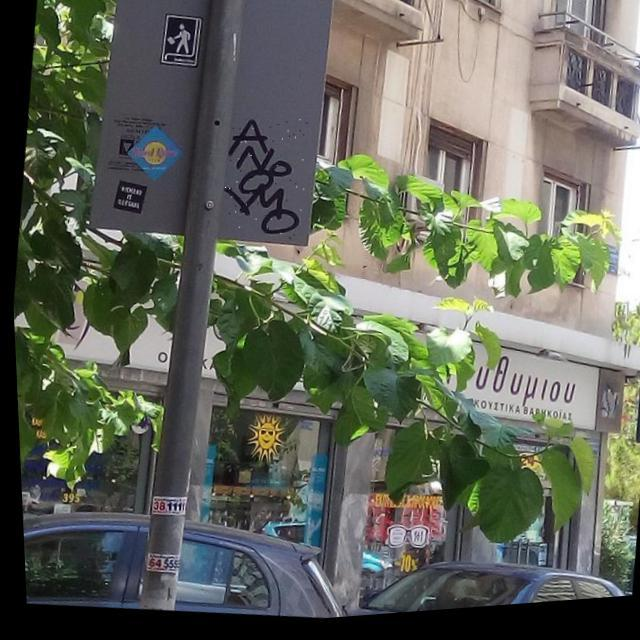-: (215, 114, 312, 245)
